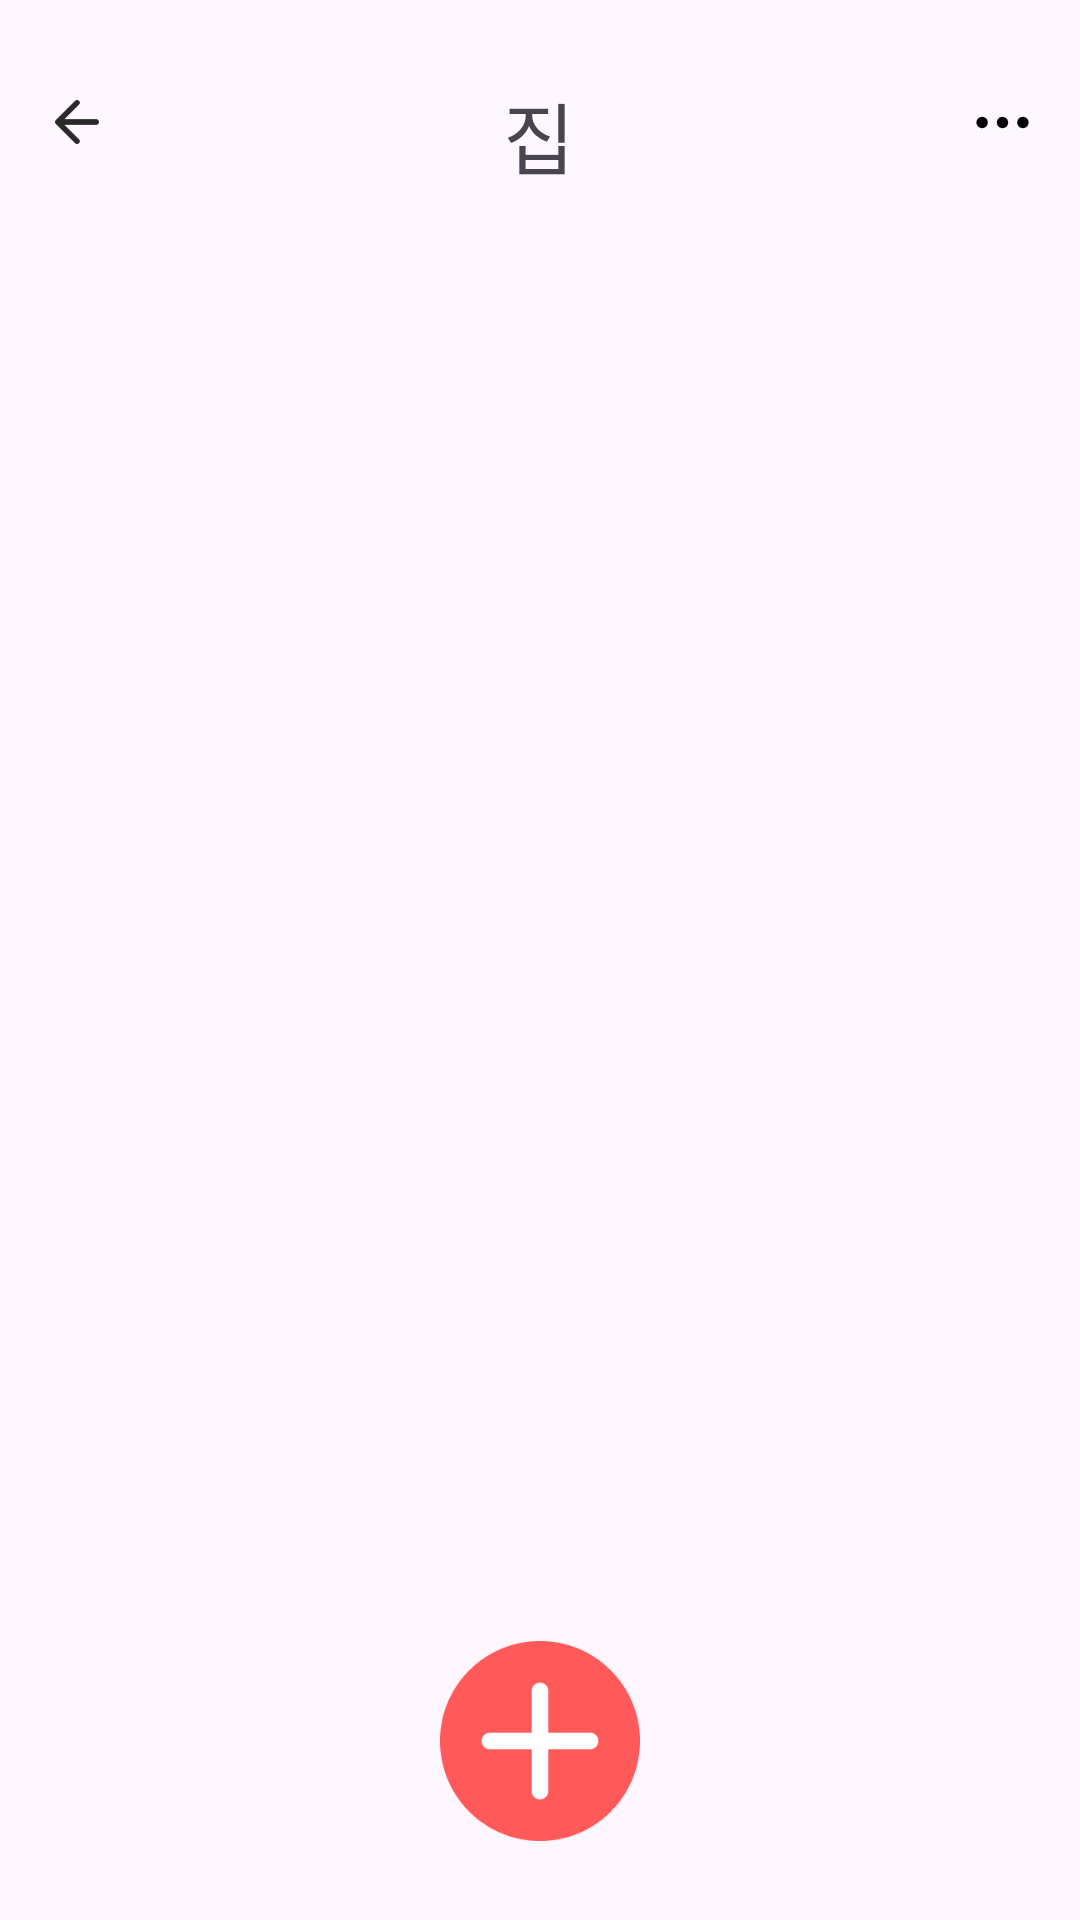

Icons on this 1080x1920 Android screen, each with its box as bbox(x1, y1, x2, y2):
back: bbox(55, 100, 99, 144)
more: bbox(976, 116, 1029, 129)
plus: bbox(440, 1641, 640, 1841)
